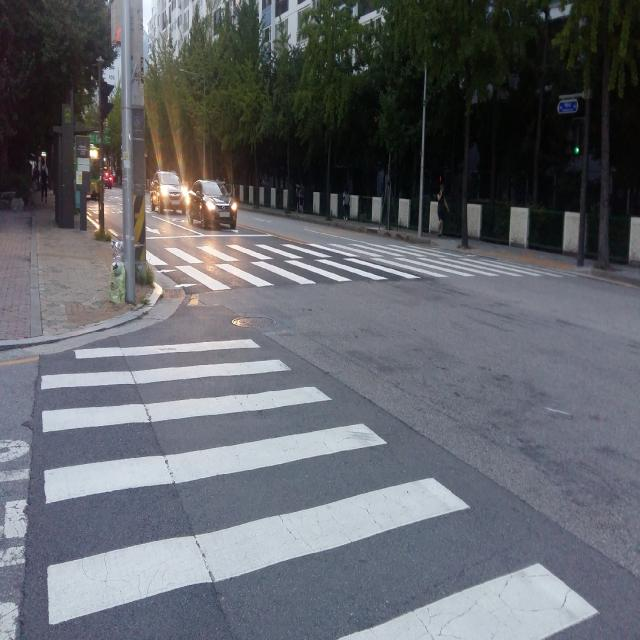횡단보도: (41, 338, 600, 640), (144, 220, 562, 301)
